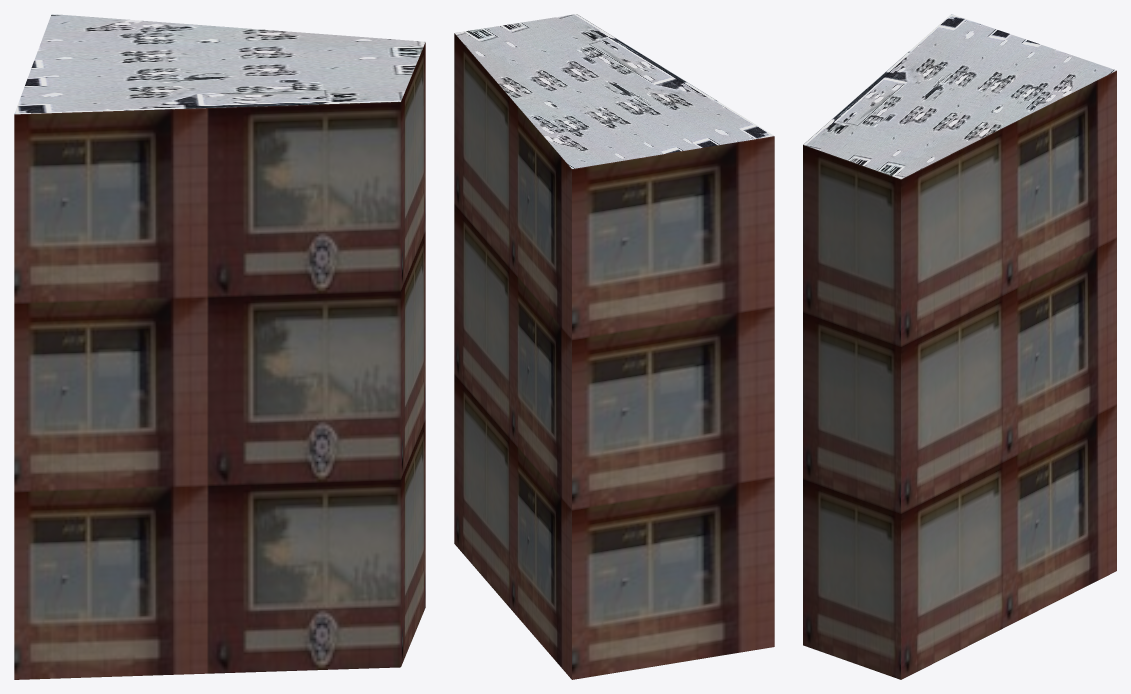
File: ResTex__4210.fbx
3 renders of one model, left to right at view 1: azimuth 30°, elevation 25°; view 2: azimuth 150°, elevation 25°; view 3: azimuth 270°, elevation 25°, orthographic. The views are drawn at different scales.
Visible parts, largest first — view 1: CityEngineMaterial_13_m, CityEngineMaterial_4_m; view 2: CityEngineMaterial_13_m, CityEngineMaterial_4_m; view 3: CityEngineMaterial_13_m, CityEngineMaterial_4_m.
Part boxes in pixels (x1=…): CityEngineMaterial_13_m: x1=14, y1=42, x2=425, y2=679; CityEngineMaterial_4_m: x1=14, y1=14, x2=425, y2=114; CityEngineMaterial_13_m: x1=454, y1=33, x2=774, y2=679; CityEngineMaterial_4_m: x1=454, y1=14, x2=774, y2=168; CityEngineMaterial_13_m: x1=803, y1=70, x2=1116, y2=679; CityEngineMaterial_4_m: x1=803, y1=14, x2=1116, y2=179.
Bounding box in the file's own units: 6.38 × 9 × 5.12.
2 materials, 2 textured.
